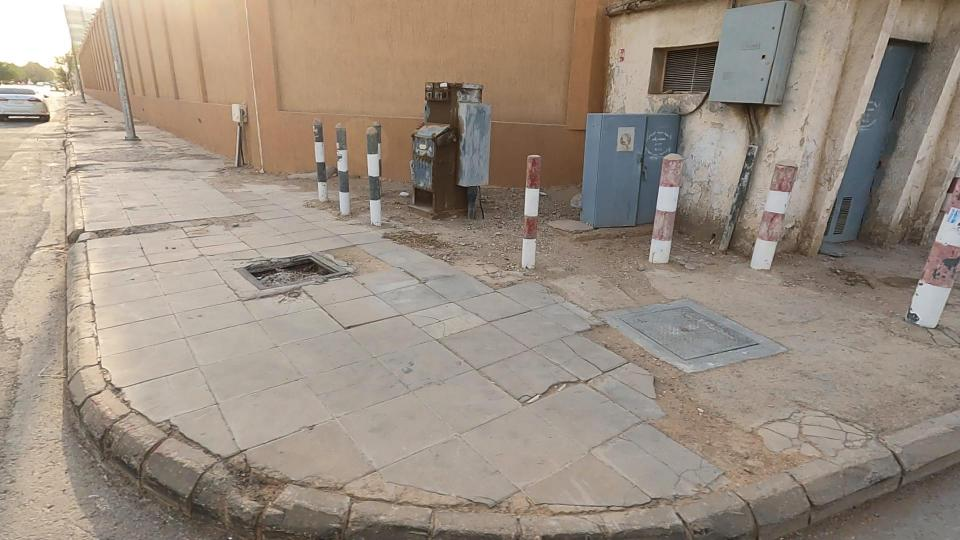FADED_SIGNAGE: (463, 98, 604, 320), (696, 106, 850, 307), (605, 84, 733, 312), (864, 111, 960, 411), (318, 73, 424, 241), (312, 74, 377, 237)
